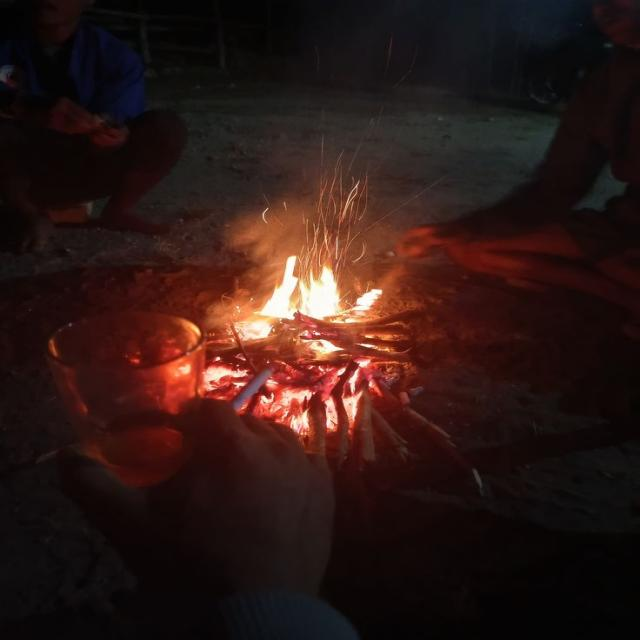fire: (264, 376, 311, 432), (260, 255, 298, 320), (302, 265, 342, 318)
